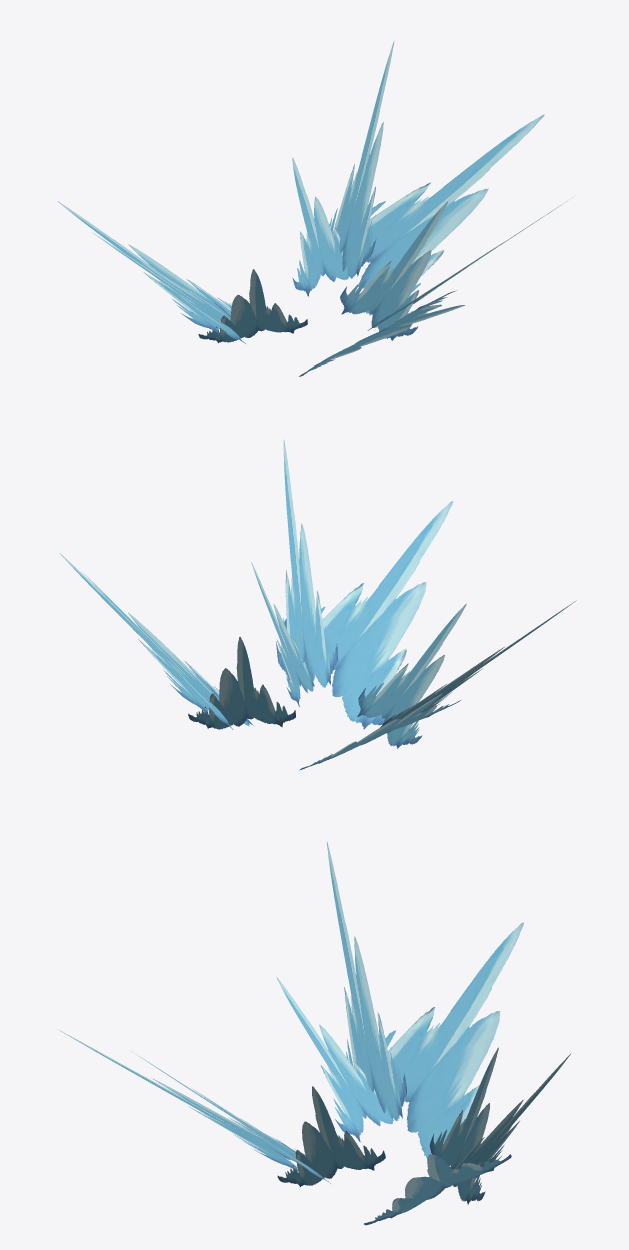
File: bingci_01.FBX
3 views of the same model, one above another, from view 1: azimuth 30°, elevation 25°; view 2: azimuth 150°, elevation 25°; view 3: azimuth 270°, elevation 25° (orthographic). The views are drawn at different scales.
Parts seen in each view (by area): view 1: bingci_01; view 2: bingci_01; view 3: bingci_01.
Part boxes in pixels (x1,y1,x2,y2): bingci_01: (57,41,566,376); bingci_01: (59,440,576,770); bingci_01: (59,841,570,1225).
Size of the model in its own units: 39.8 by 16.85 by 34.16.
